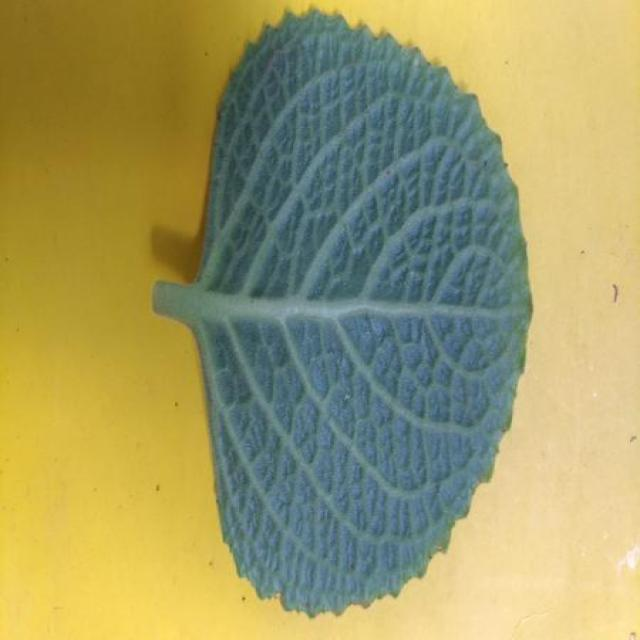doddpathre: (153, 10, 532, 614)
